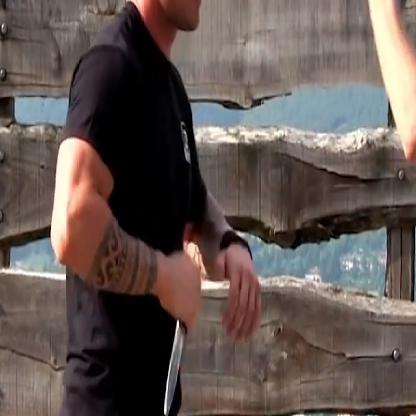knife: (156, 247, 202, 415)
